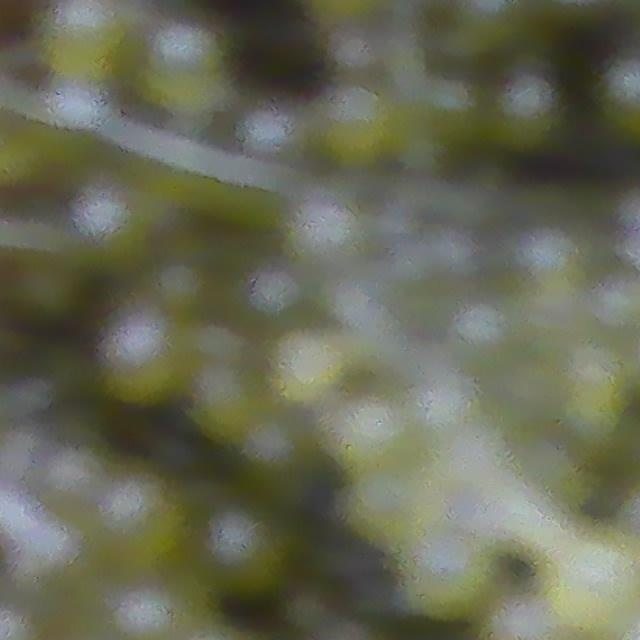SeaGrape: (547, 532, 640, 630), (320, 388, 418, 478), (265, 324, 353, 409), (487, 70, 563, 154)
